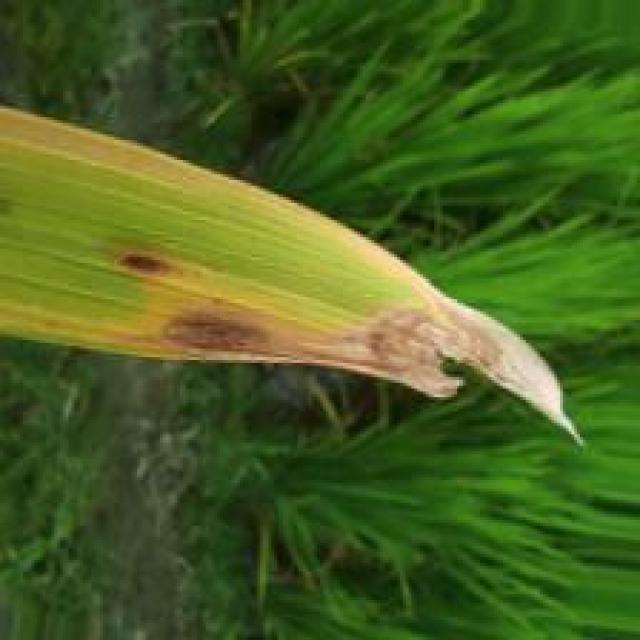Narrow_Brown_Leaf_Spot: (0, 240, 588, 447)
